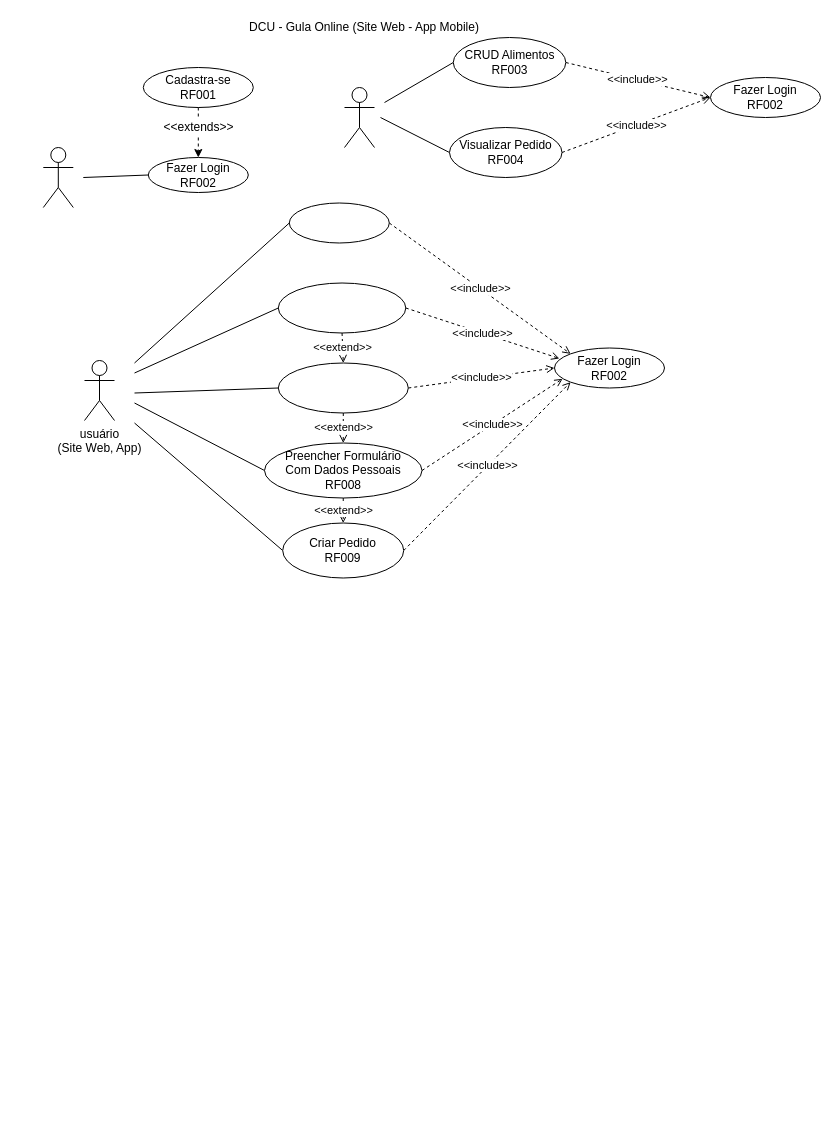
The diagram is 839 pixels wide and 1143 high, and some of its shapes have lost their labels. The box of each missing label's shape, as (x1, y1, x2, y2) in pixels:
Alterar perfil RF005: (288, 202, 389, 243)
empreendedor (Site Web): (344, 86, 374, 148)
Selecionar Alimentos RF007: (277, 362, 408, 413)
usuários (Site Web, app): (42, 146, 73, 208)
Visualizar Alimentos RF006: (277, 282, 406, 333)
